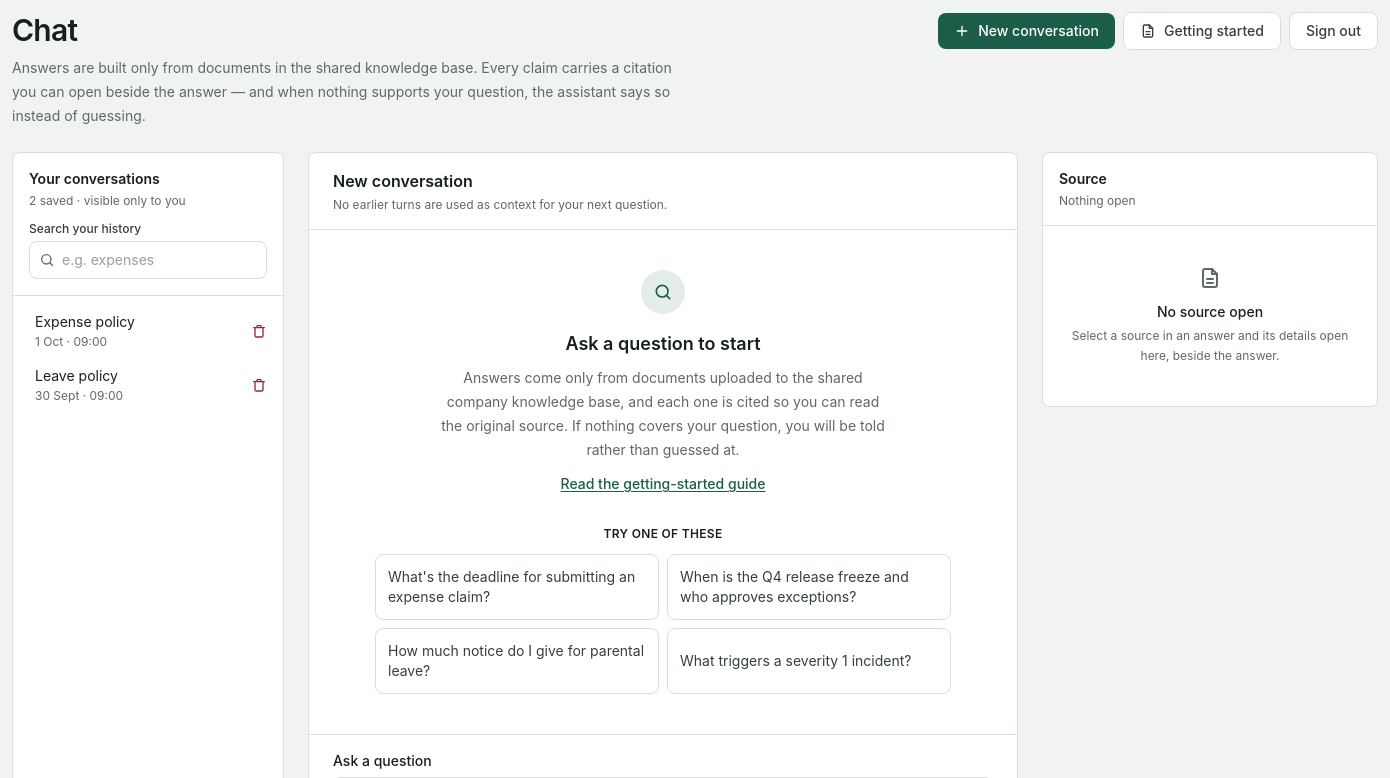
Scenario: Chat screen › filters only the fetched history list, never requesting another search endpoint
The width and height of the screenshot is (1390, 778).
Expected: the text "Expense policy" is shown, [35,313,135,330]
Step 1. Type "expense" into the search field labelled "Search your history" → (148, 260), box [29,241,267,279]
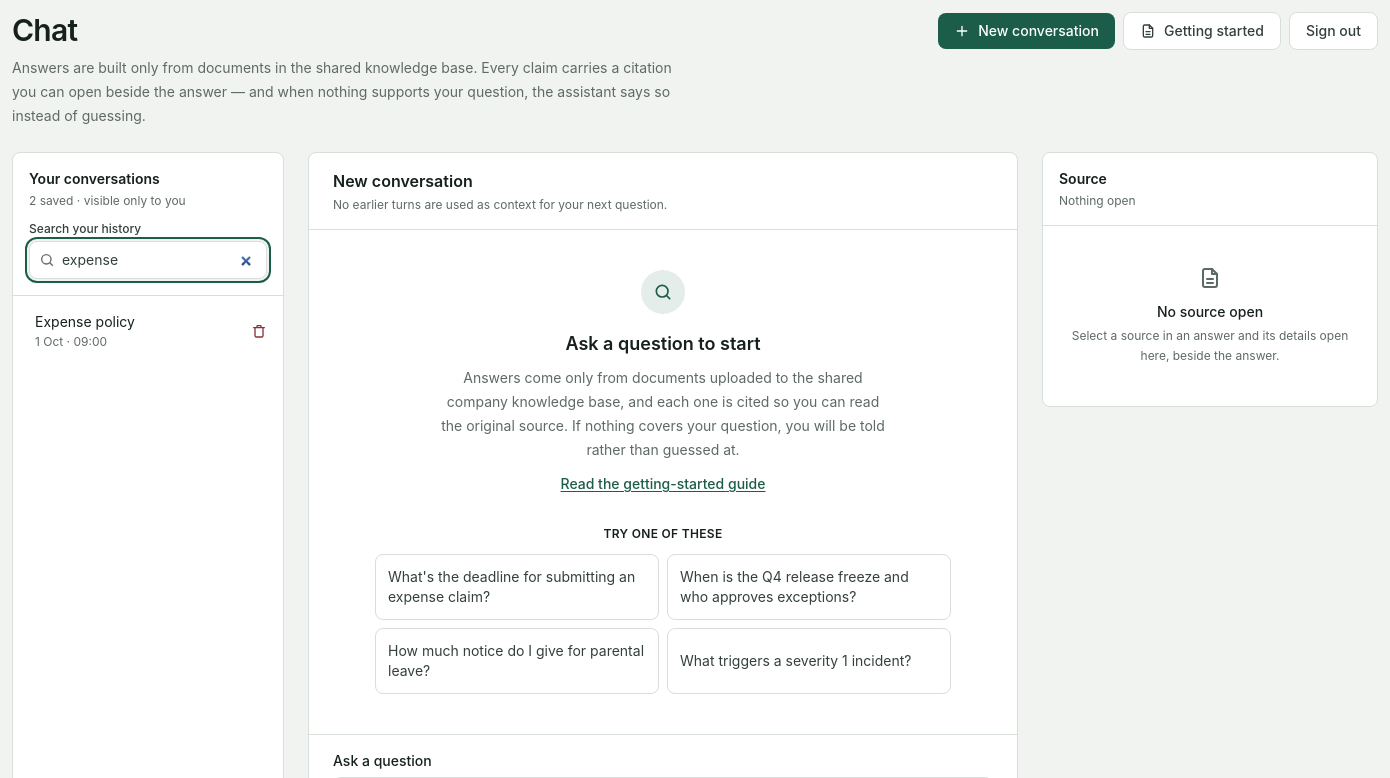
Expected: the text "Expense policy" is shown, [35,313,135,330]
Expected: the button "Leave policy" is gone
